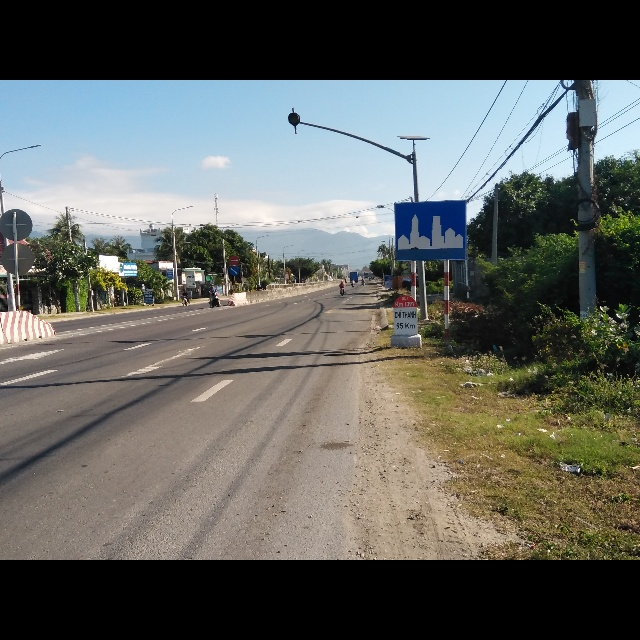Khu đông dân cư: (392, 199, 468, 263)
